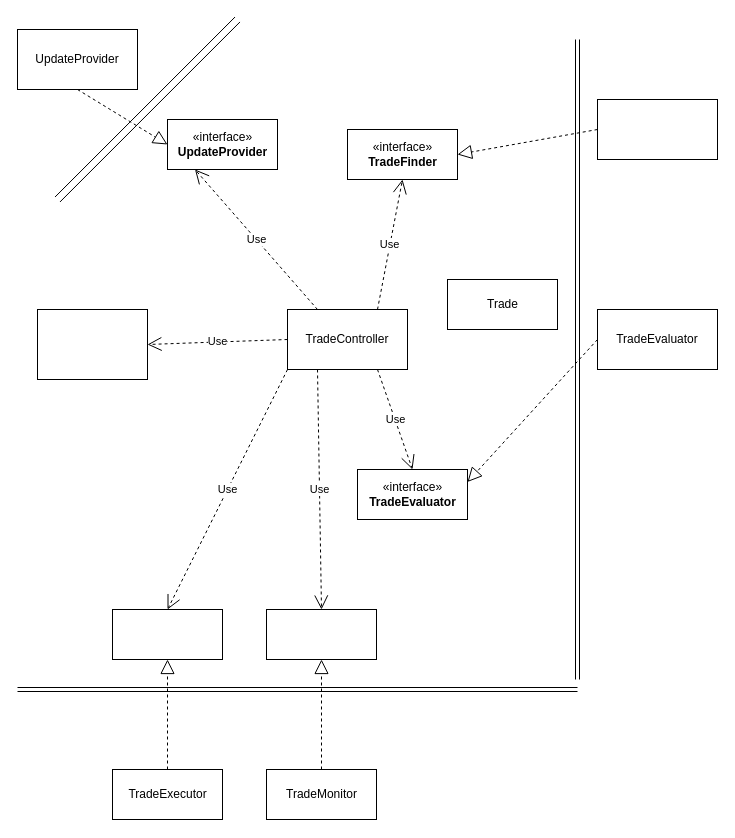
Some shapes in this 735 by 838 pixel diagram are drawn without their labels. Each missing label, with the centre of its shape:
"ArbiTradeFinder" belongs at point (657, 129).
"BalanceHandler" belongs at point (92, 344).
"«interface» TradeExecutor" belongs at point (167, 634).
"«interface» TradeMonitor" belongs at point (321, 634).
